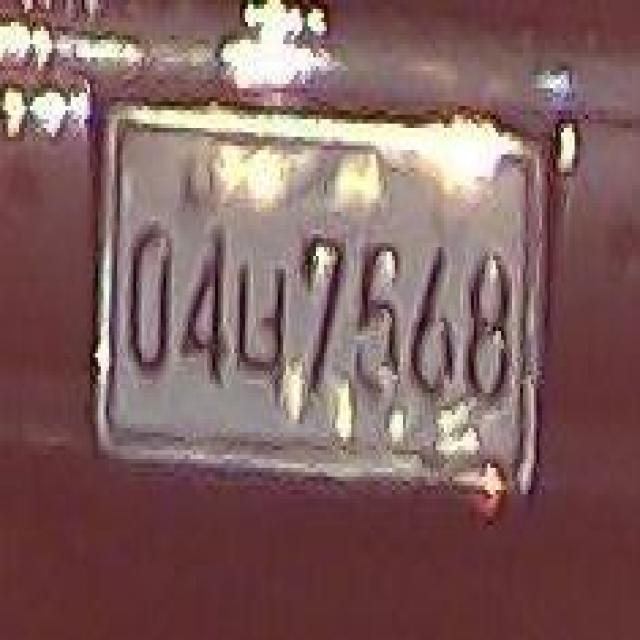illegal_plate: (84, 86, 564, 530)
